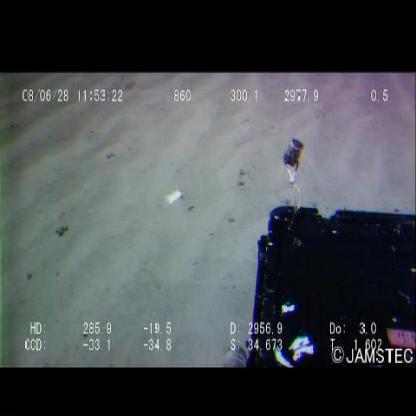Rác: (163, 189, 184, 207)
